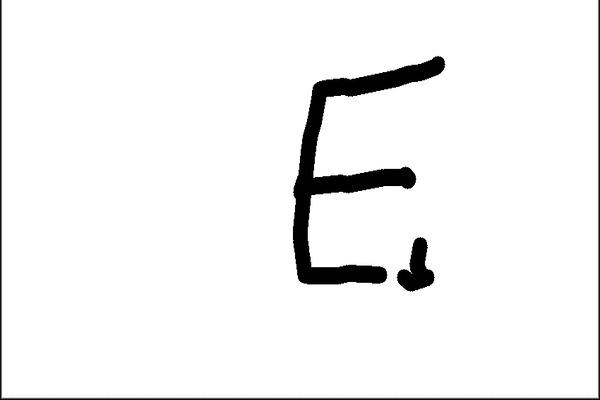E: (286, 52, 451, 290)
